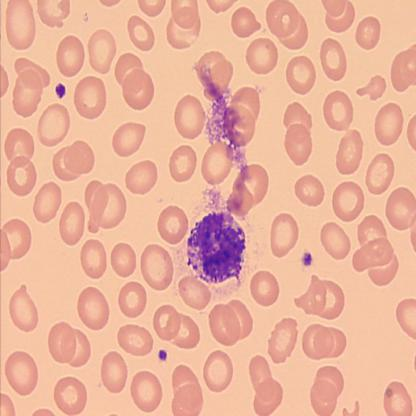Basophil: (185, 208, 248, 286)
